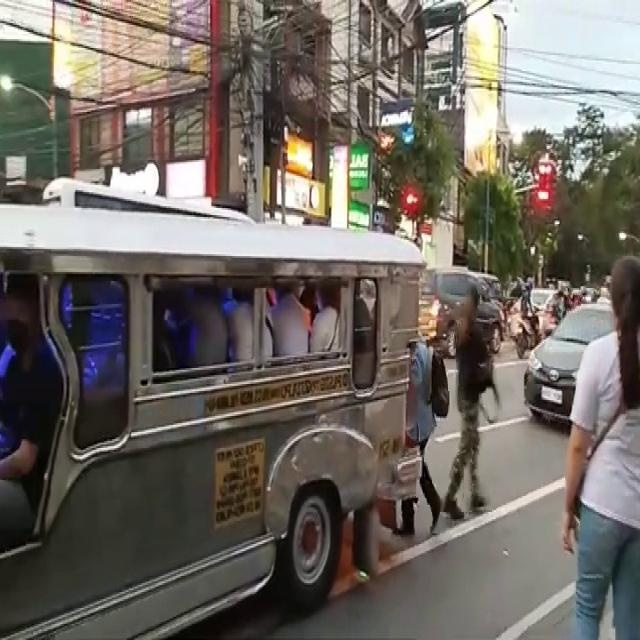car: (513, 304, 611, 438), (418, 267, 491, 350)
jeepney: (0, 235, 412, 640)
